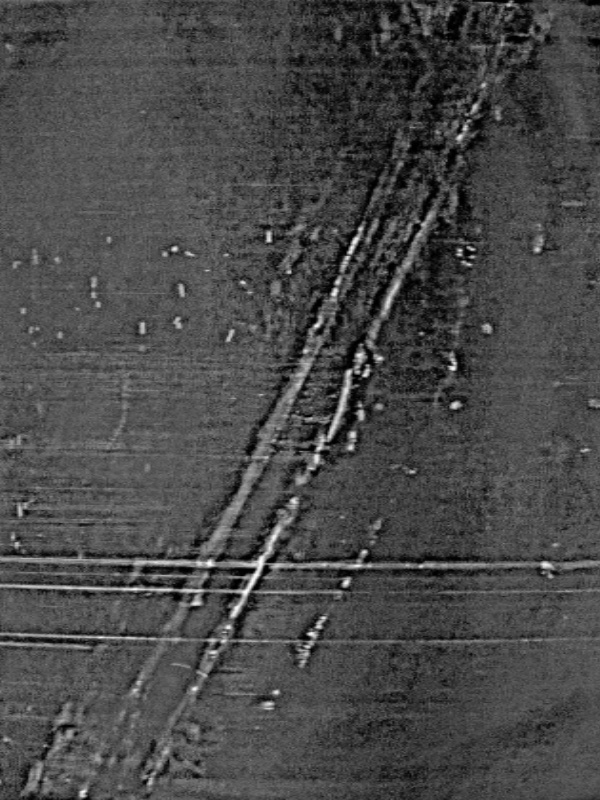splice_vulcanized: (19, 1, 530, 800)
